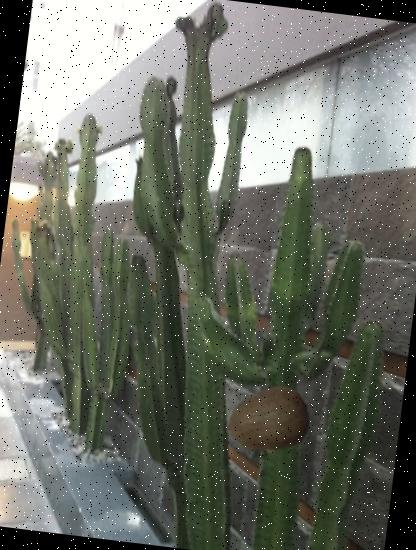Kiwi: (219, 372, 316, 468)
